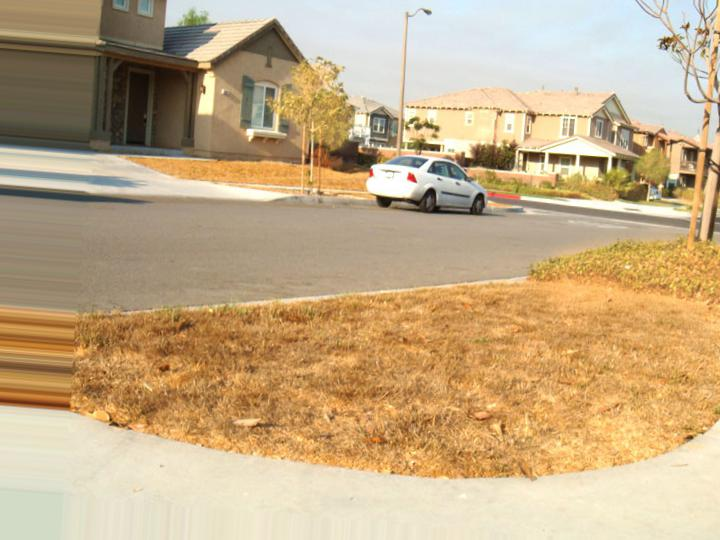patch: (151, 320, 533, 442), (564, 286, 661, 401)
